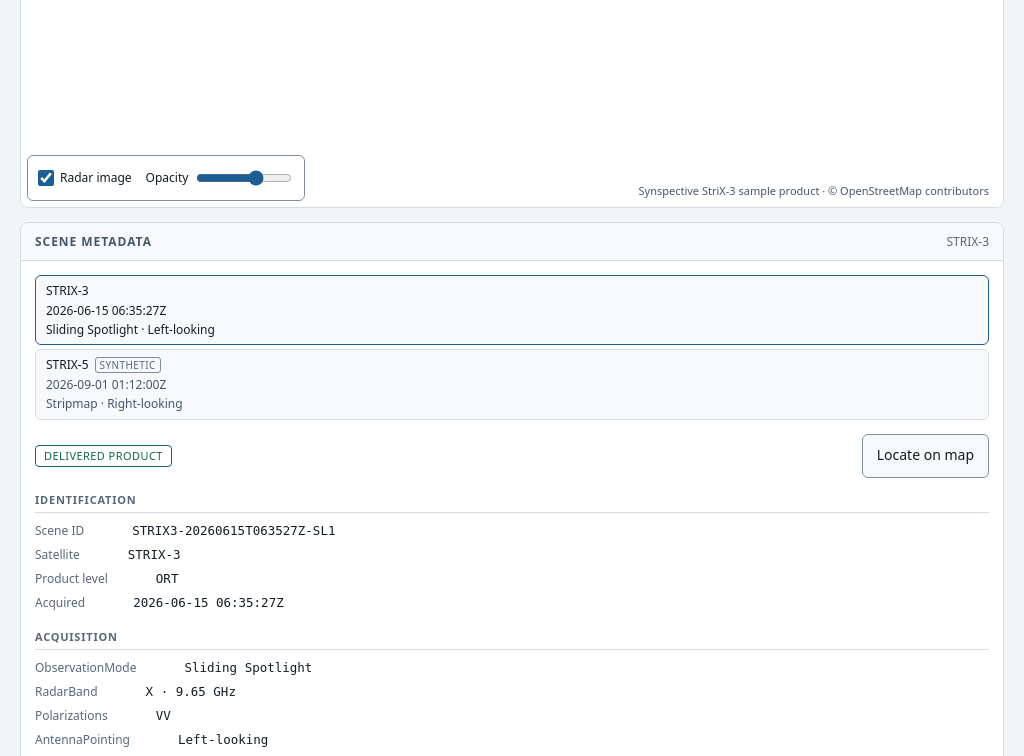
Test case: App with one feed down › selects a scene from the panel list, with no canvas involved
(page scrolled)
Expected: the text "STRIX3-20260615T063527Z-SL1" is shown, [132, 522, 336, 538]
Click the button "STRIX-5". click: point(67, 365)
box: [35, 349, 989, 420]
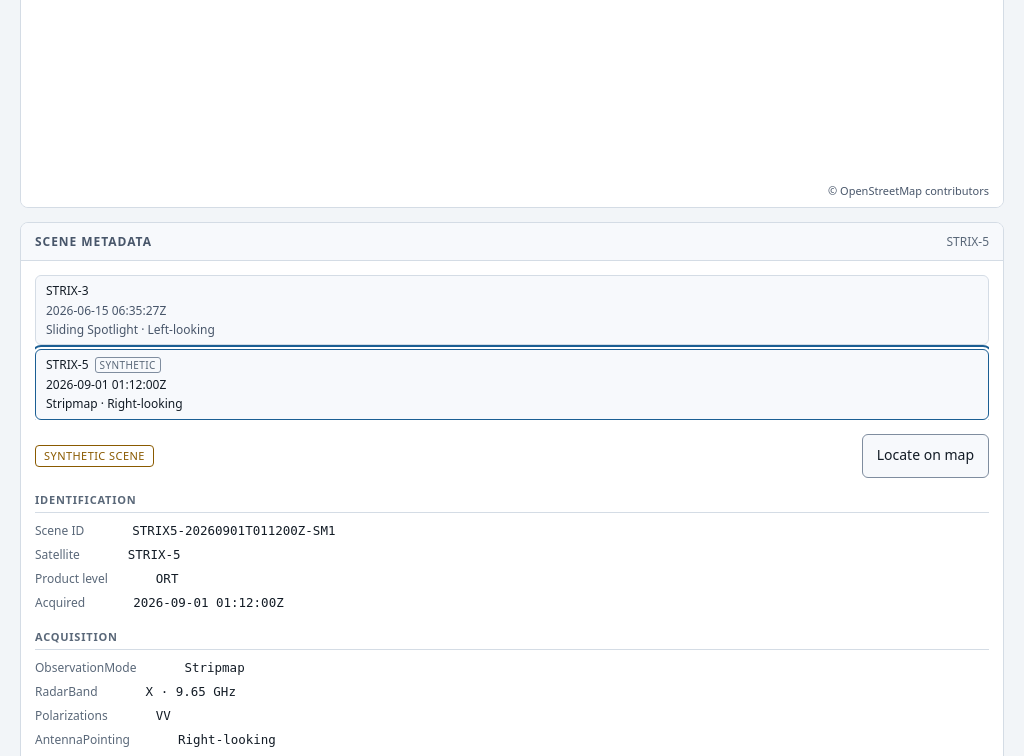
Result: the text "STRIX5-20260901T011200Z-SM1" is shown at [132, 522, 336, 538]
Result: the text "STRIX3-20260615T063527Z-SL1" is gone
